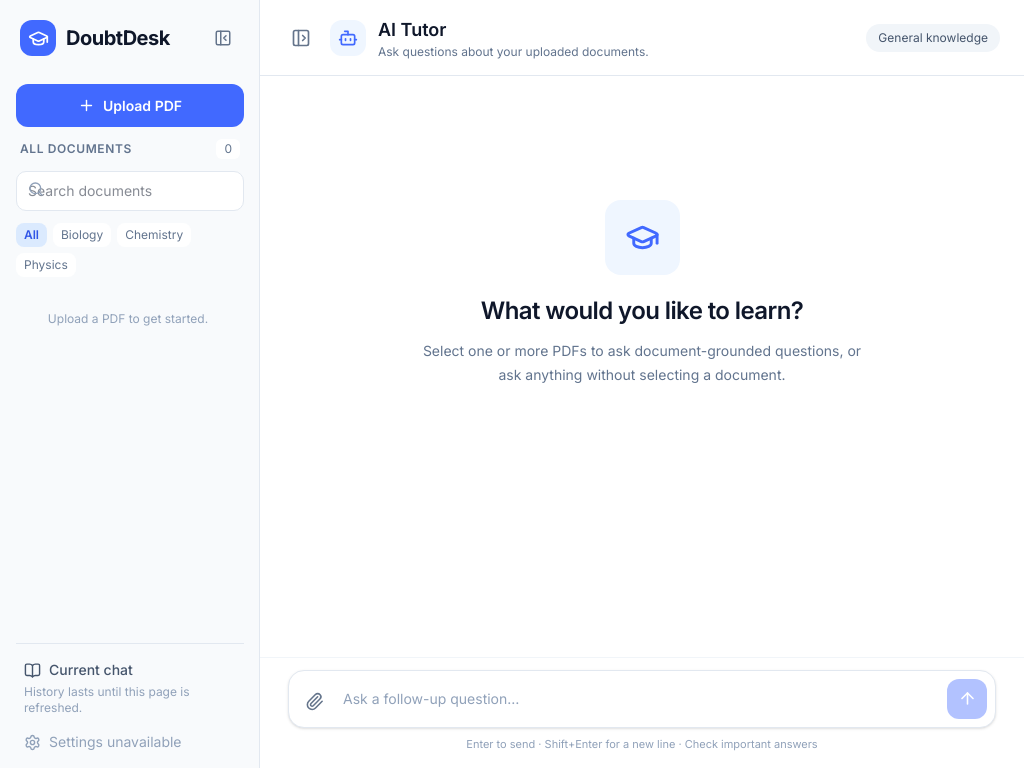
Test case: DoubtDesk interactions › submits a question without documents
The width and height of the screenshot is (1024, 768).
Step 1. Type "What is photosynthesis?" into the text box with placeholder "Ask a follow-up question…" → (639, 698), box [339, 678, 939, 718]
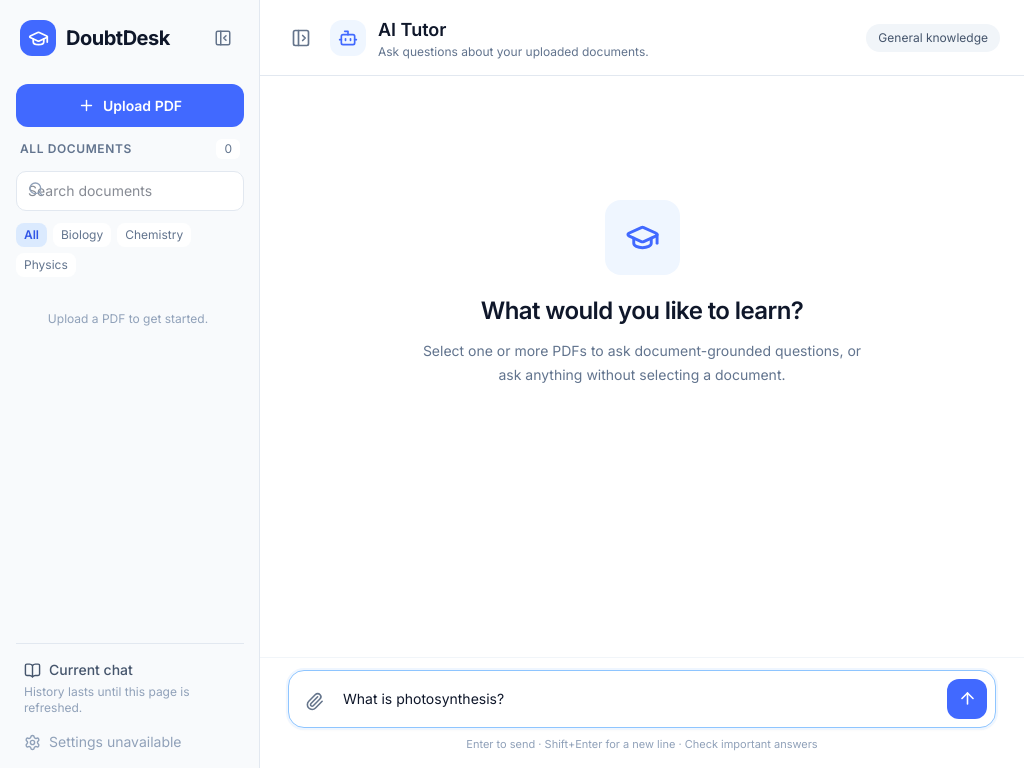
Step 2. Click the button named "Send message" → (967, 698), box [947, 678, 987, 718]
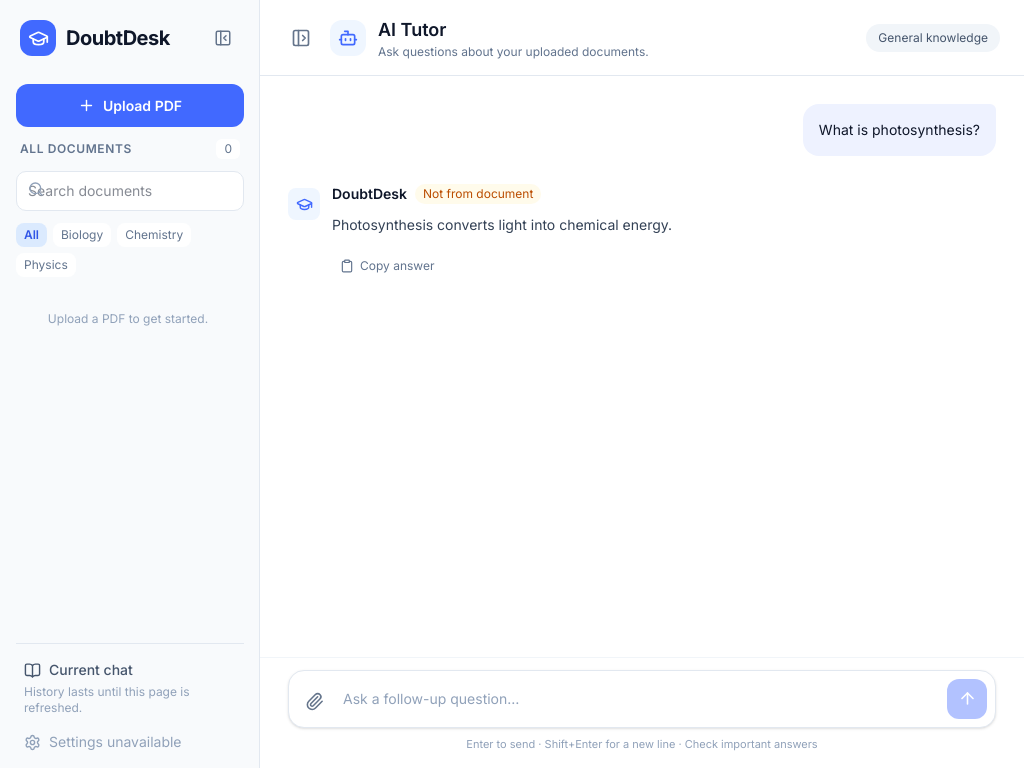
Result: the text "Photosynthesis converts light into chemical energy." is shown at [332, 216, 672, 233]
Result: the text "Not from document" is shown at [415, 184, 541, 204]
